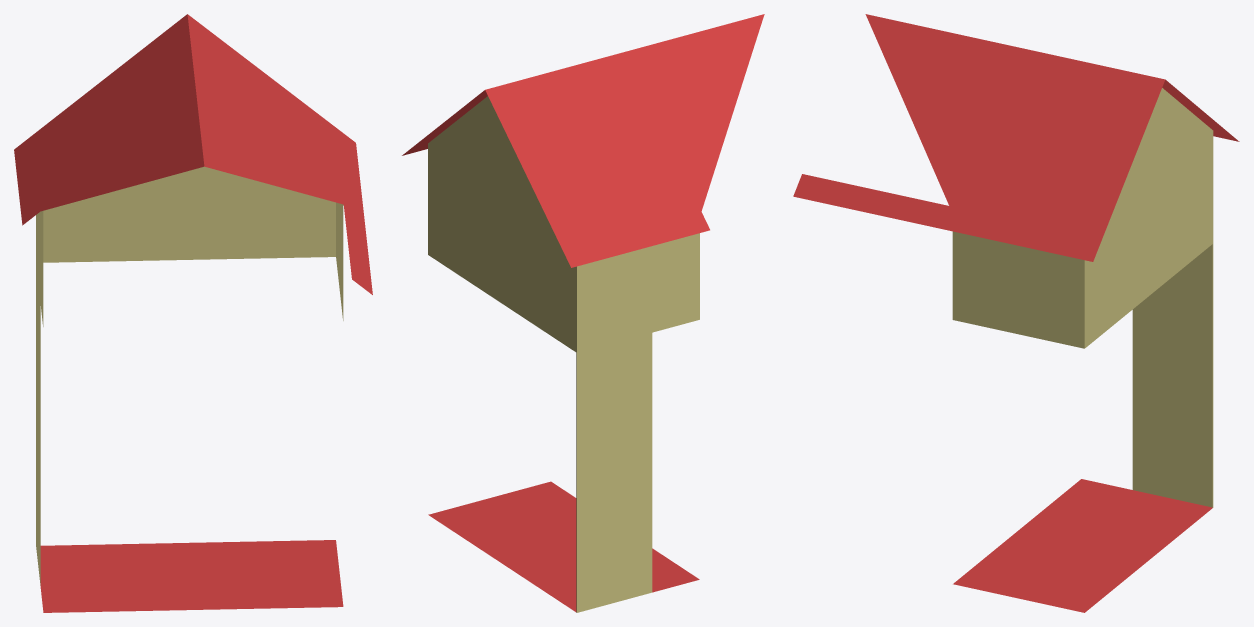
3 views of the same model, side by side, from view 1: azimuth 30°, elevation 25°; view 2: azimuth 150°, elevation 25°; view 3: azimuth 270°, elevation 25° (orthographic). The views are drawn at different scales.
Size of the model in its own units: 9.19 by 11.36 by 13.62.
